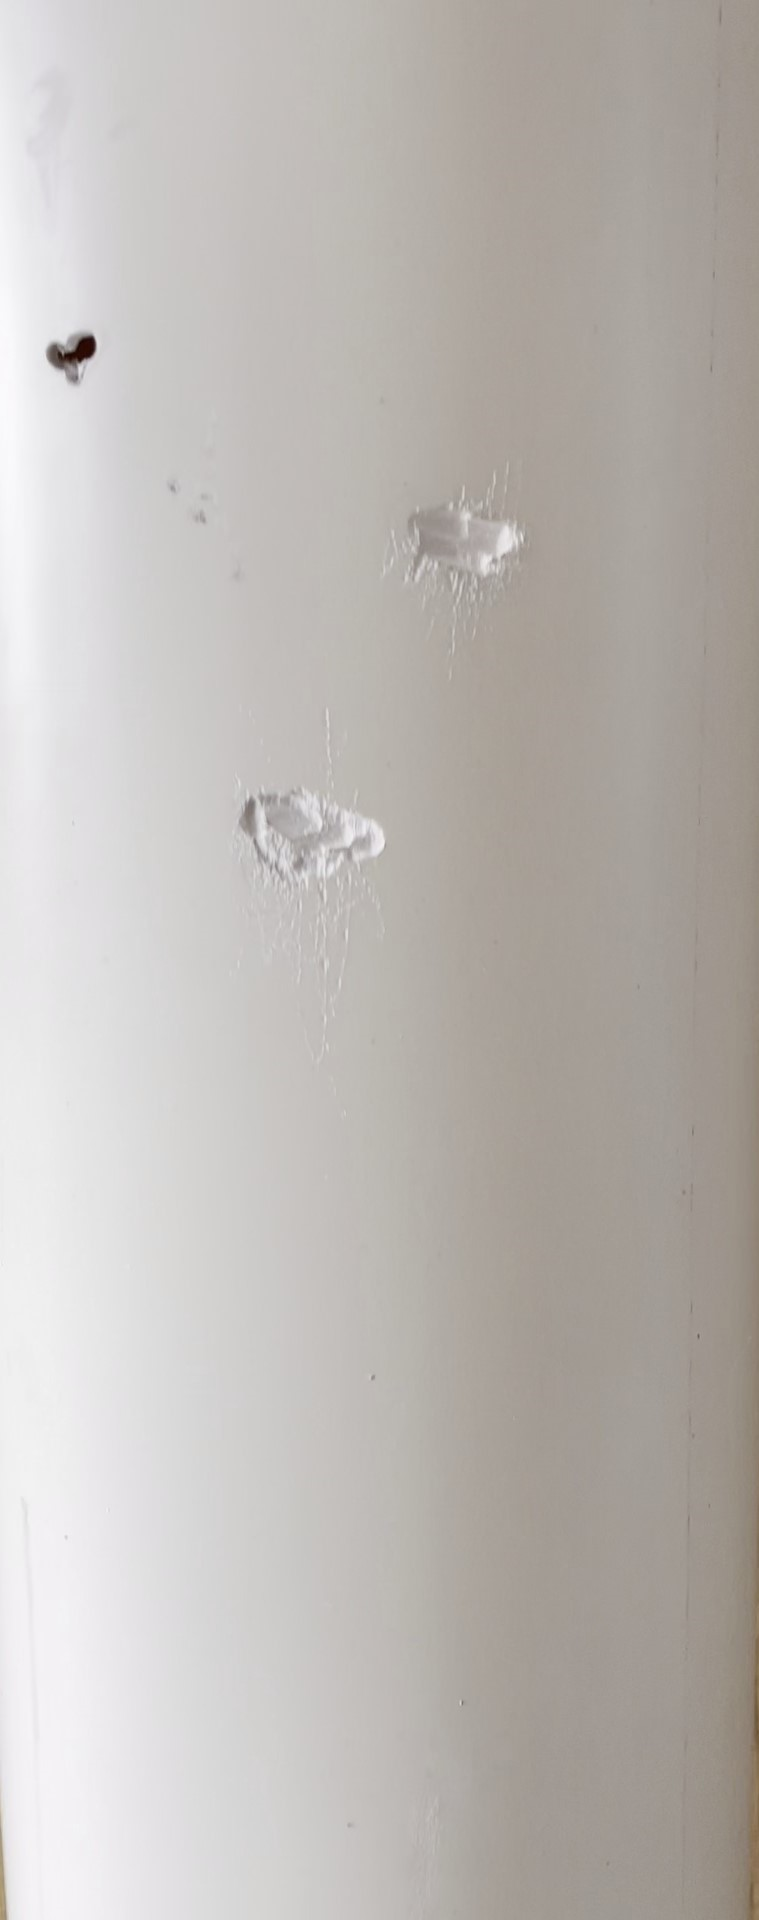kongdong: (45, 313, 113, 396)
sunshang: (224, 776, 392, 906), (402, 490, 542, 598)
